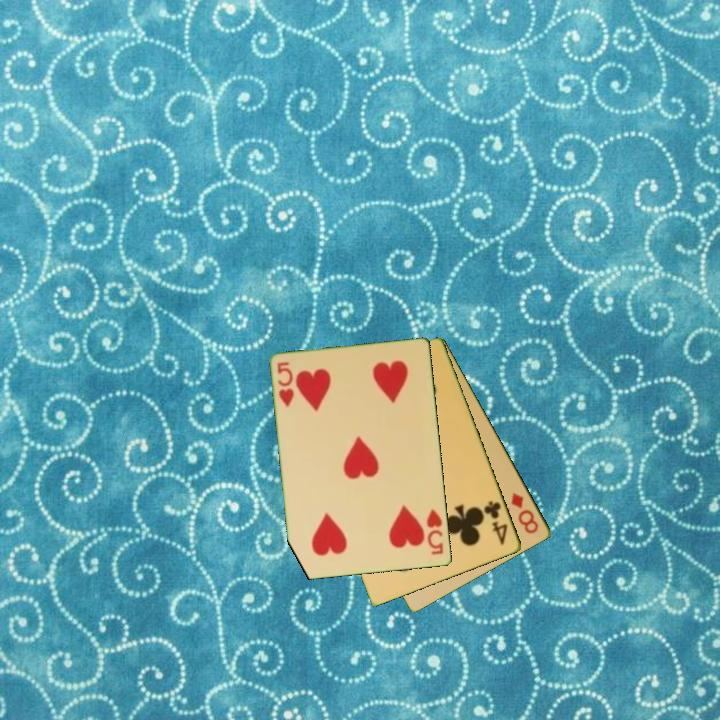4c: (480, 497, 511, 548)
5h: (423, 506, 447, 558), (274, 358, 297, 410)
8d: (508, 489, 542, 537)
